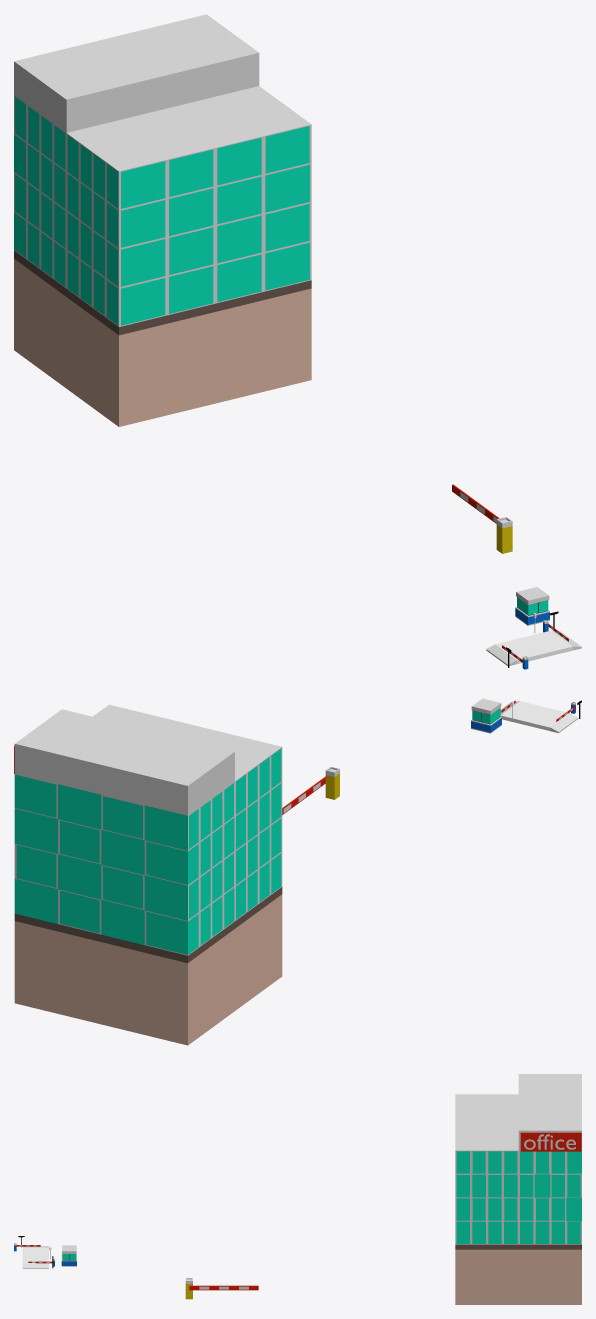
The model's file is Road_Props.glb.
The picture shows the model from 3 angles, top to bottom: view 1: azimuth 30°, elevation 25°; view 2: azimuth 150°, elevation 25°; view 3: azimuth 270°, elevation 25°; orthographic projection. The views are drawn at different scales.
Parts seen in each view (by area): view 1: Office, Weighing_Ground, Gate; view 2: Office, Weighing_Ground, Gate, Barricade; view 3: Office, Weighing_Ground, Barricade_Opener, Gate.
Boxes of the visible parts, box(x1,y1,x2,y2) form: Office: box(14, 14, 311, 426); Weighing_Ground: box(486, 630, 581, 665); Gate: box(515, 587, 549, 625); Office: box(14, 704, 282, 1045); Weighing_Ground: box(500, 701, 578, 733); Gate: box(471, 698, 501, 733); Barricade: box(325, 766, 339, 799); Office: box(455, 1074, 581, 1304); Weighing_Ground: box(22, 1246, 48, 1268); Barricade_Opener: box(189, 1285, 258, 1290); Gate: box(61, 1245, 76, 1266).
Size of the model in its own units: 4.46 by 6.35 by 18.65.
